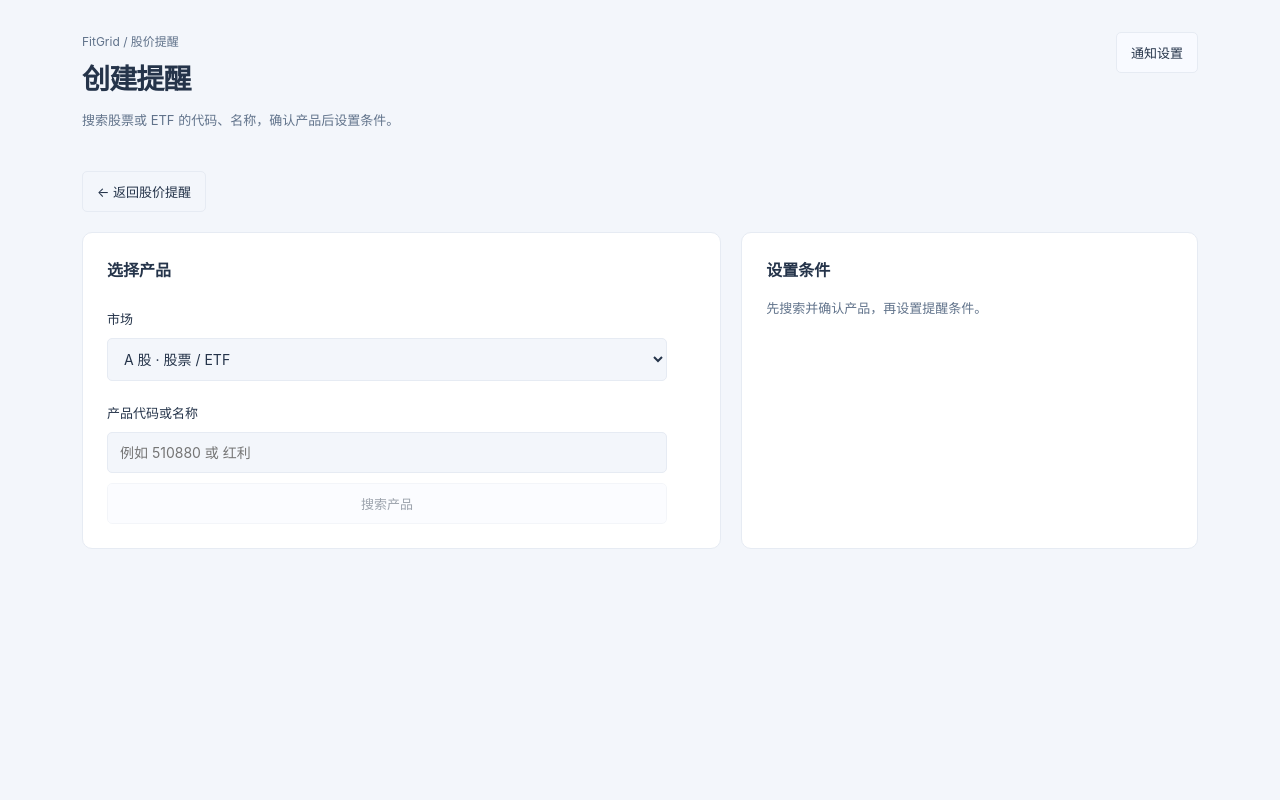
Test: searches real candidate names and requires an explicit selection before showing alert conditions
Type "红利" into the field labelled "产品代码或名称" at [387, 453], box [107,432,667,473]
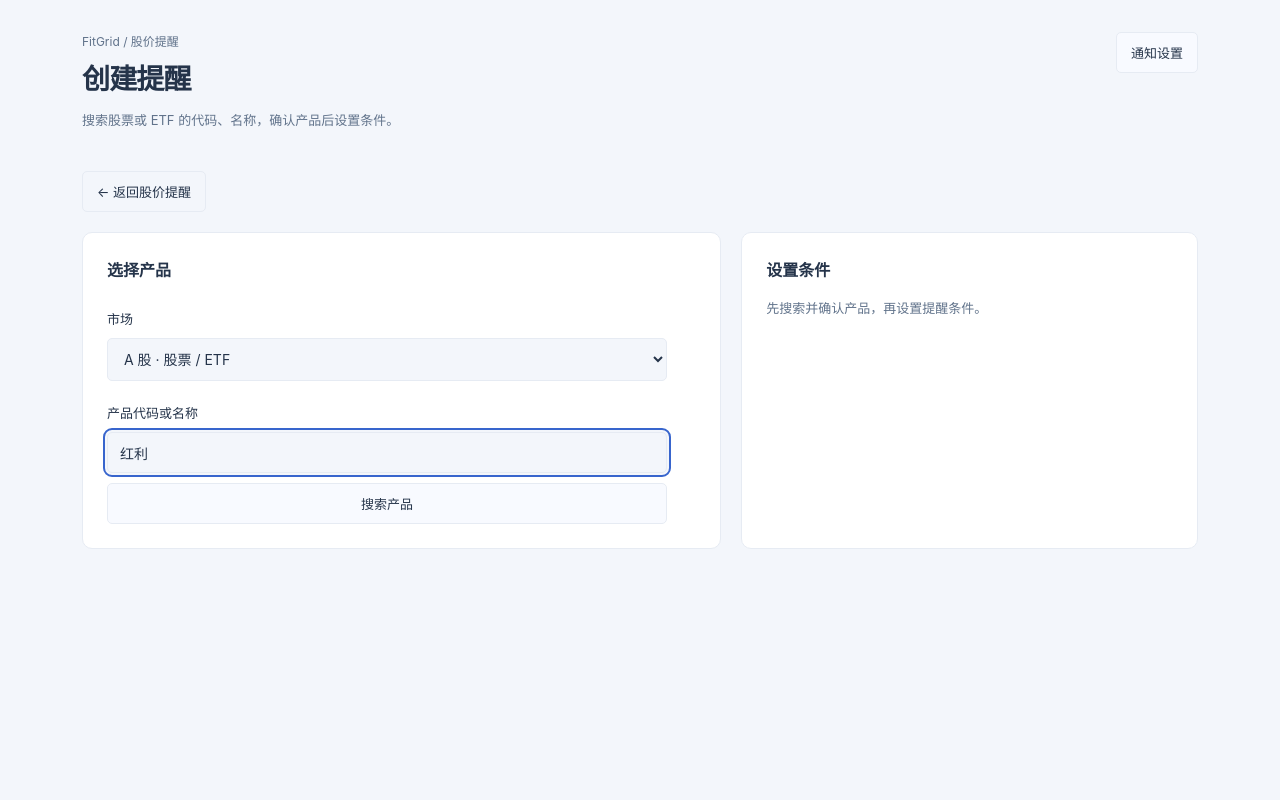
Click the button "搜索产品" at [387, 504], box [107,483,667,524]
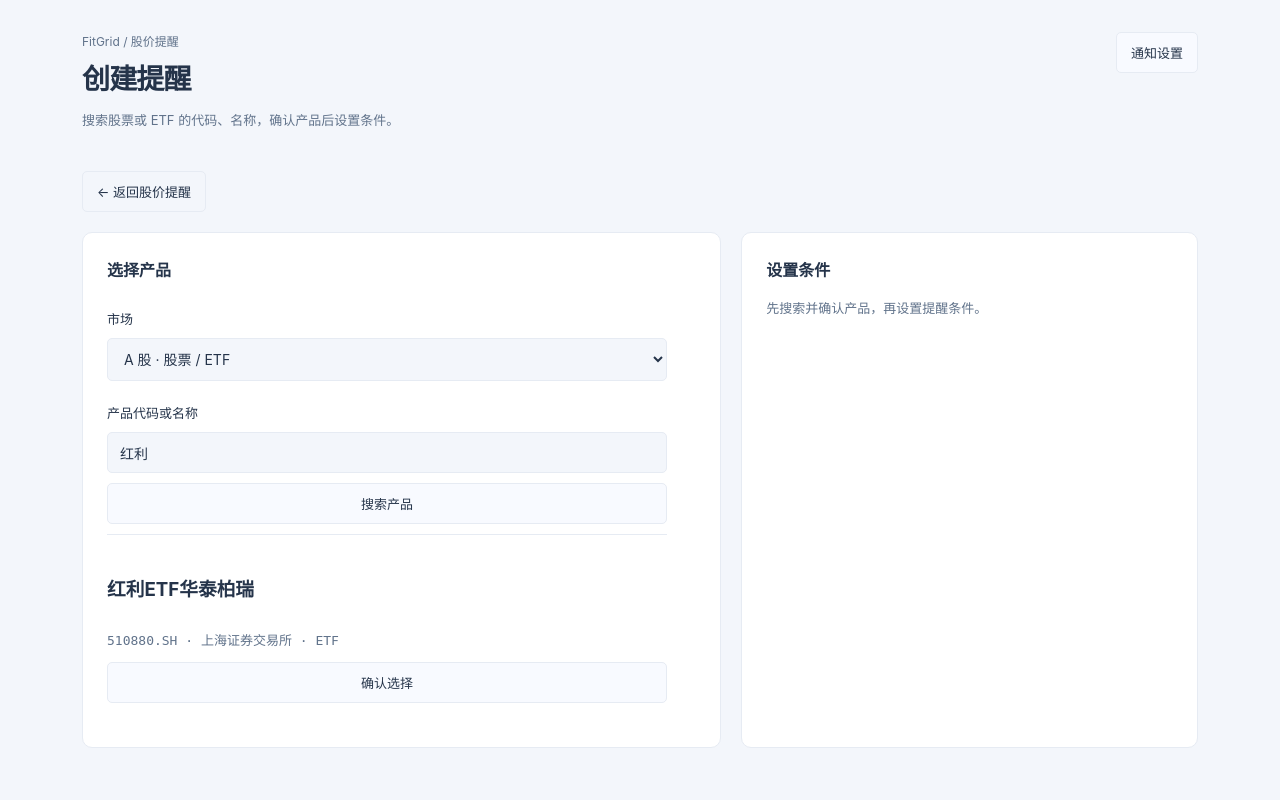
Expected: the button "保存提醒" is not shown
Expected: the heading "红利ETF华泰柏瑞" is shown, [107,578,254,601]
Click the button "确认选择" at [387, 682], box [107,662,667,703]
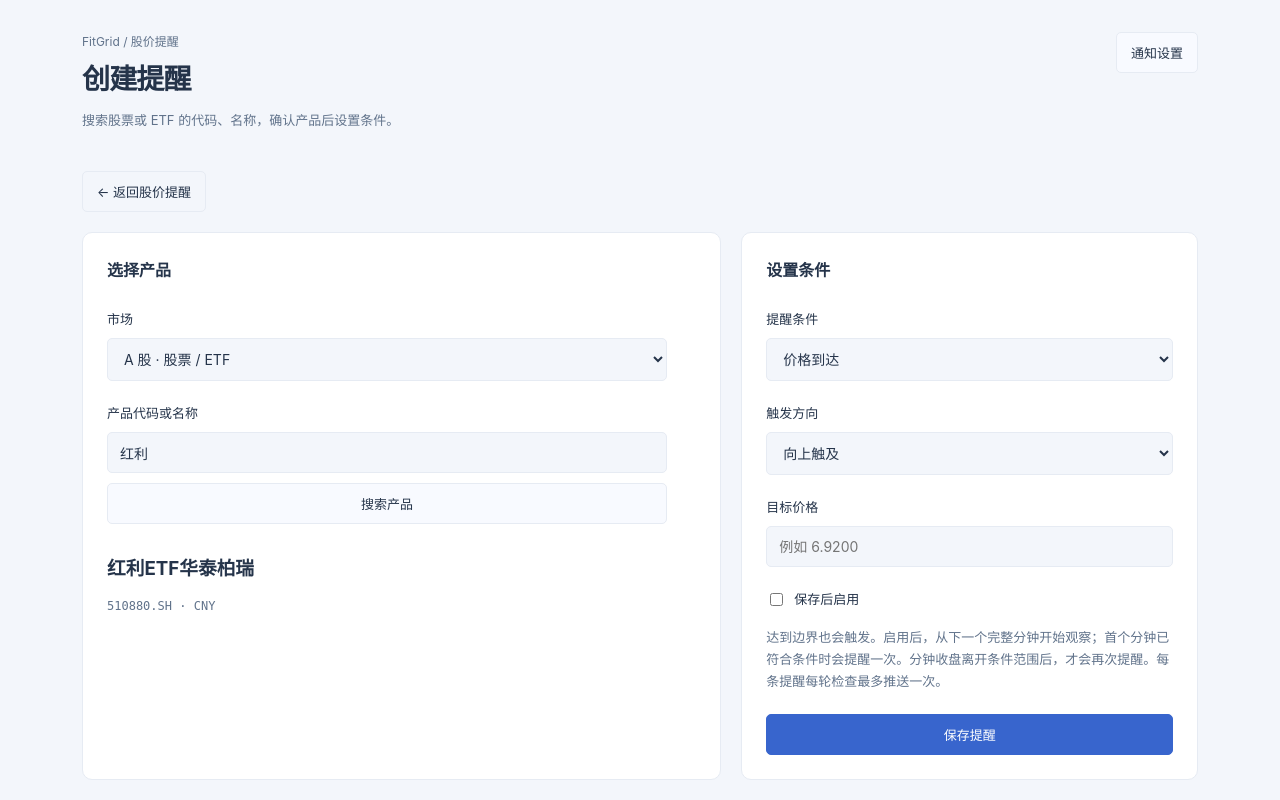
Expected: the button "保存提醒" is shown, [766,714,1173,755]
Type "1" into the field labelled "产品代码或名称" at [387, 453], box [107,432,667,473]
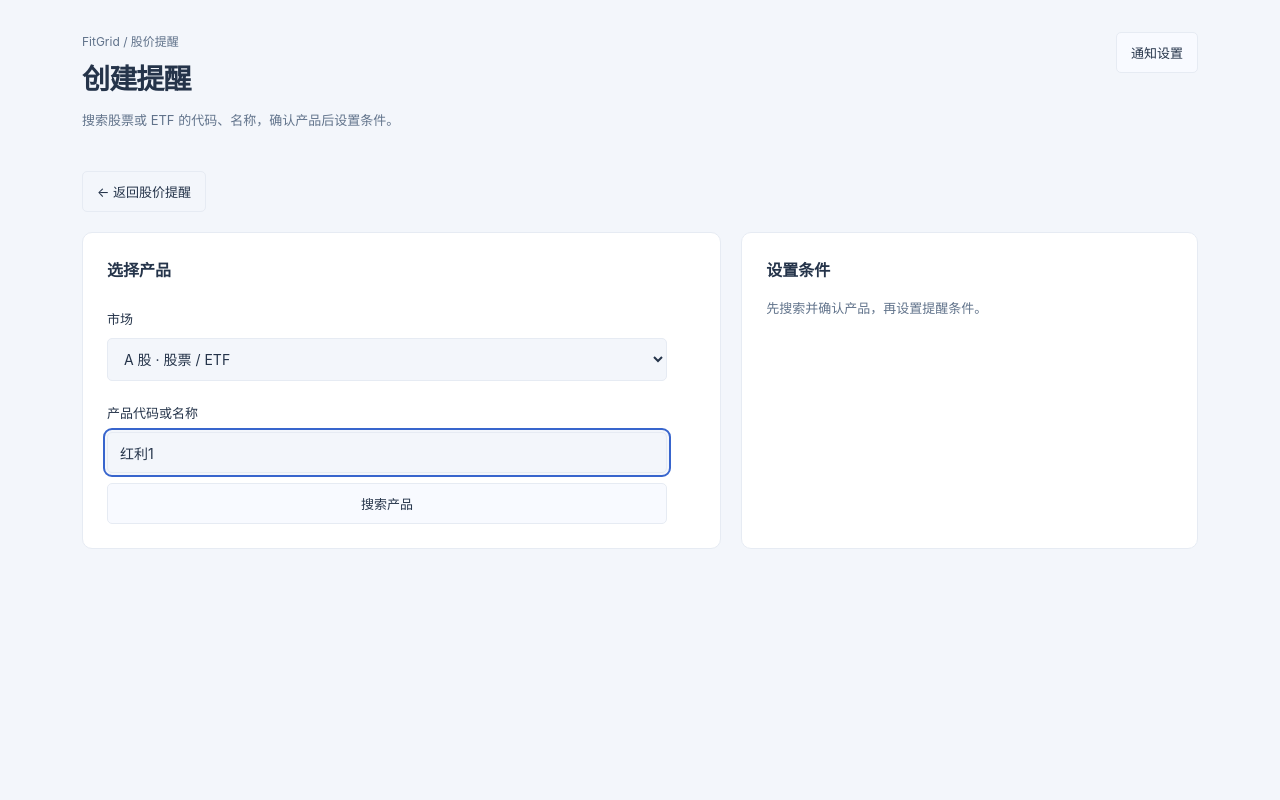
Expected: the button "确认选择" is not shown
Expected: the button "保存提醒" is gone
